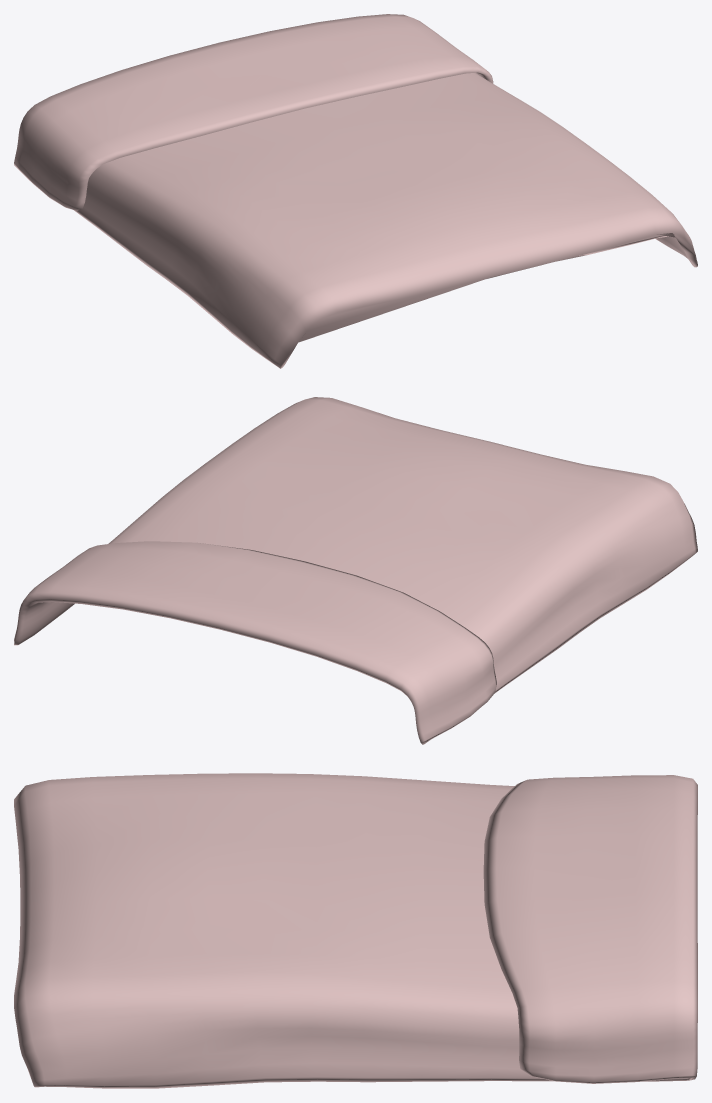
Rendered from bed_2 bedsheet.fbx.
3 views of the same model, one above another, from view 1: azimuth 30°, elevation 25°; view 2: azimuth 150°, elevation 25°; view 3: azimuth 270°, elevation 25° (orthographic). The views are drawn at different scales.
Visible parts, largest first — view 1: bed_2 bedsheet; view 2: bed_2 bedsheet; view 3: bed_2 bedsheet.
Boxes of the visible parts, left/top/right/bottom form: bed_2 bedsheet: left=14, top=14, right=697, bottom=368; bed_2 bedsheet: left=14, top=397, right=697, bottom=744; bed_2 bedsheet: left=14, top=773, right=697, bottom=1088.
Size of the model in its own units: 1.93 by 0.3617 by 2.21.
